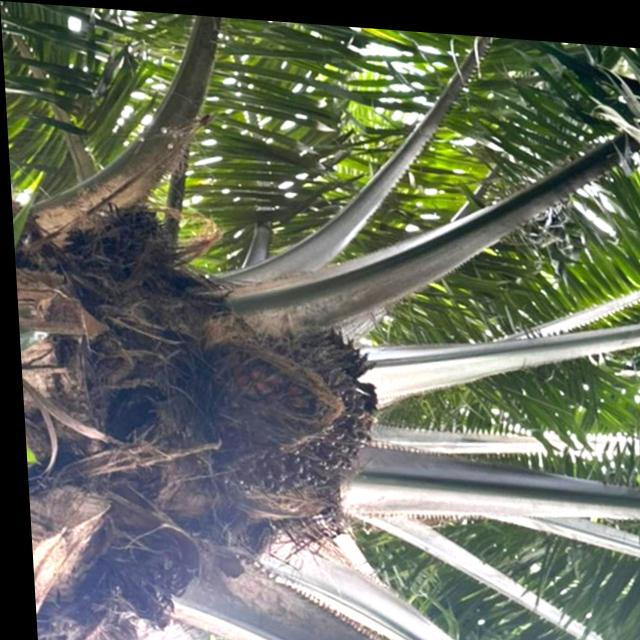ripe: (183, 296, 396, 521)
